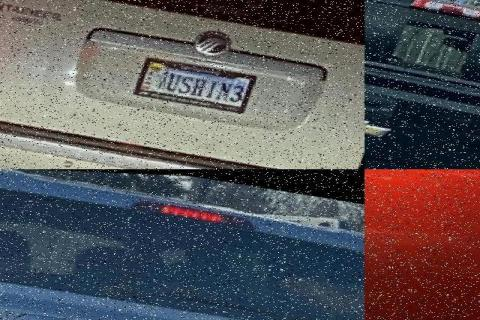LicensePlate: (133, 52, 260, 110)
